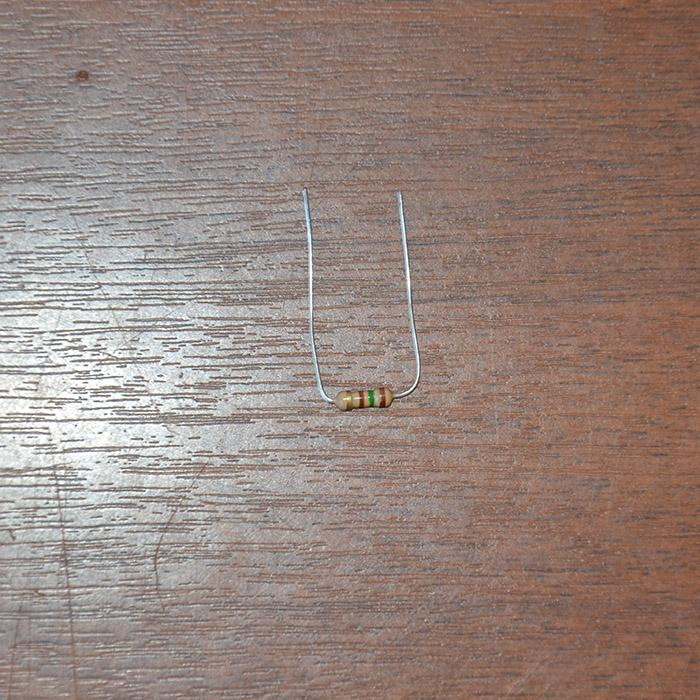resistor: (335, 386, 393, 410)
